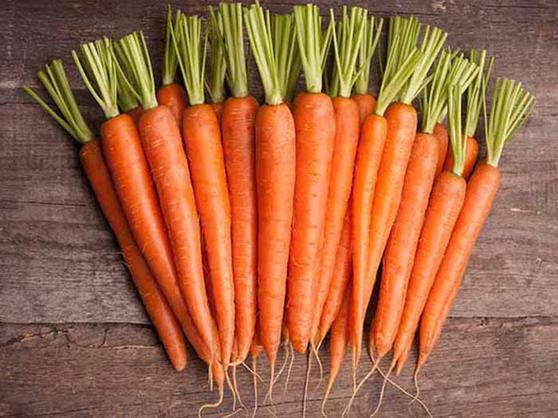carrot: (418, 159, 499, 378), (183, 99, 240, 374), (255, 103, 295, 361), (352, 111, 391, 365)
